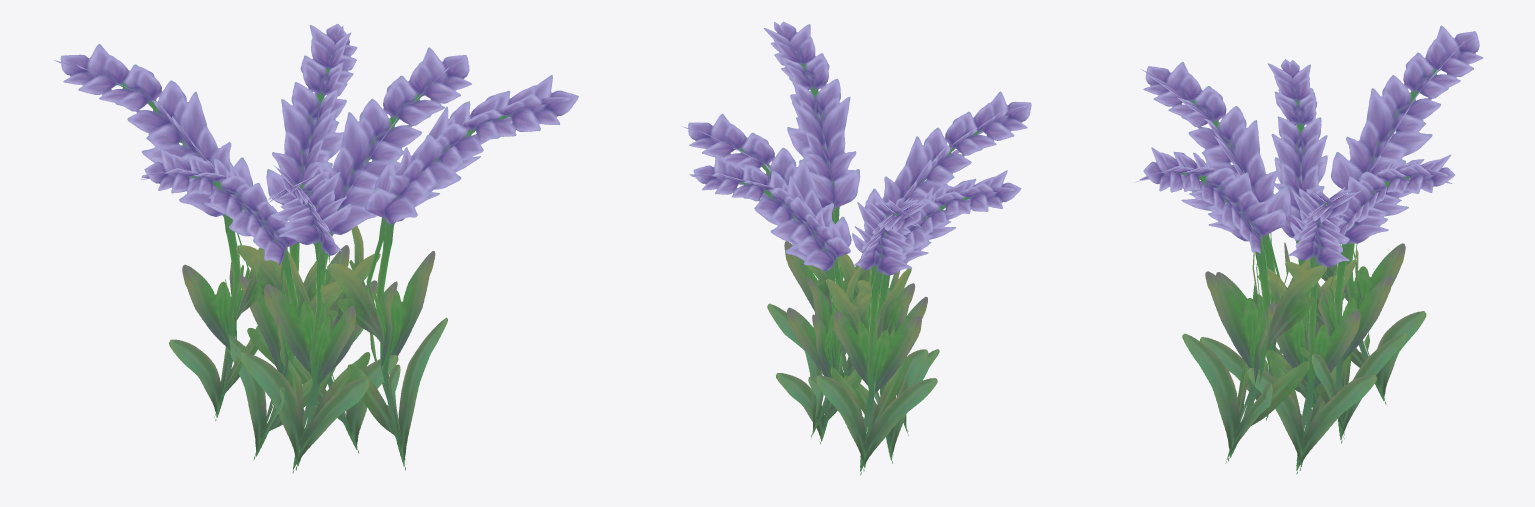
The model's file is SM_Ground_Lavender_B.fbx.
The picture shows the model from 3 angles, left to right: view 1: azimuth 30°, elevation 25°; view 2: azimuth 150°, elevation 25°; view 3: azimuth 270°, elevation 25°; orthographic projection. The views are drawn at different scales.
Visible parts, largest first — view 1: SM_Ground_Lavender_B_LOD0; view 2: SM_Ground_Lavender_B_LOD0; view 3: SM_Ground_Lavender_B_LOD0.
Boxes of the visible parts, x1,y1,x2,y2 form: SM_Ground_Lavender_B_LOD0: [53, 23, 578, 473]; SM_Ground_Lavender_B_LOD0: [681, 21, 1031, 475]; SM_Ground_Lavender_B_LOD0: [1135, 25, 1482, 474].
Size of the model in its own units: 72.97 by 68.43 by 69.96.
Materials: 1 (1 with a texture image).
